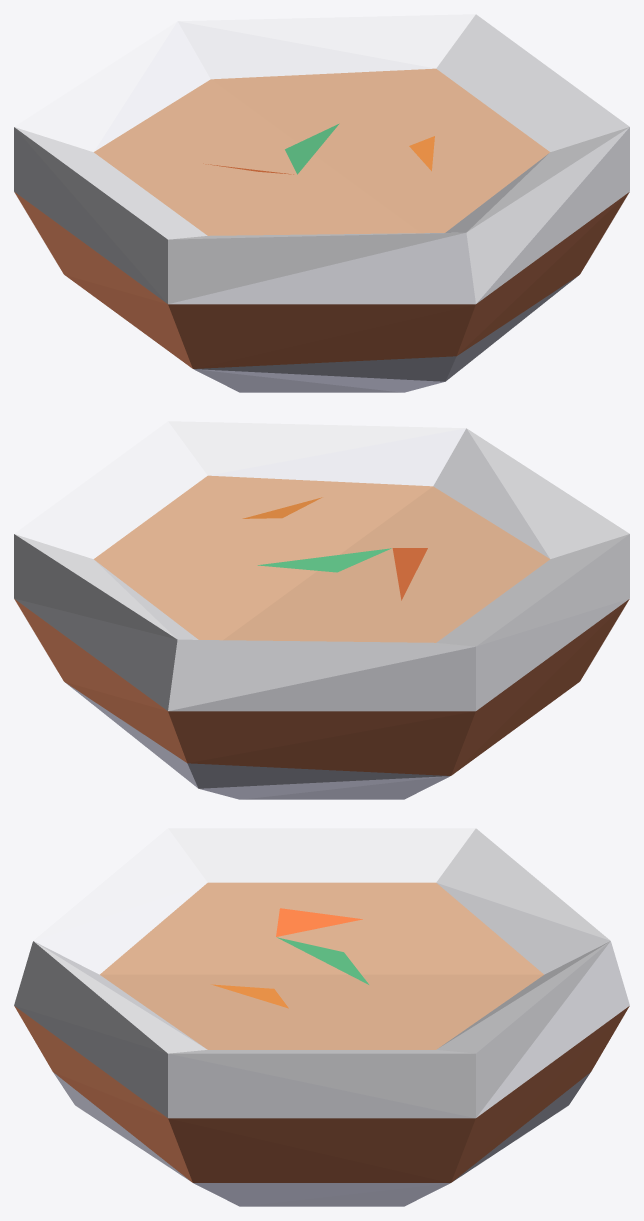
The model's file is bowl-soup_vita.obj.
3 renders of one model, top to bottom at view 1: azimuth 30°, elevation 25°; view 2: azimuth 150°, elevation 25°; view 3: azimuth 270°, elevation 25°, orthographic.
Bounding box in the file's own units: 0.5022 × 0.2138 × 0.5798.
Materials: 1 (1 with a texture image).
